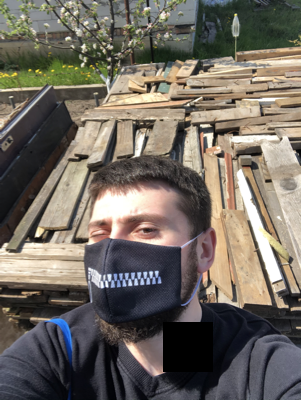with_mask: (84, 200, 186, 338)
